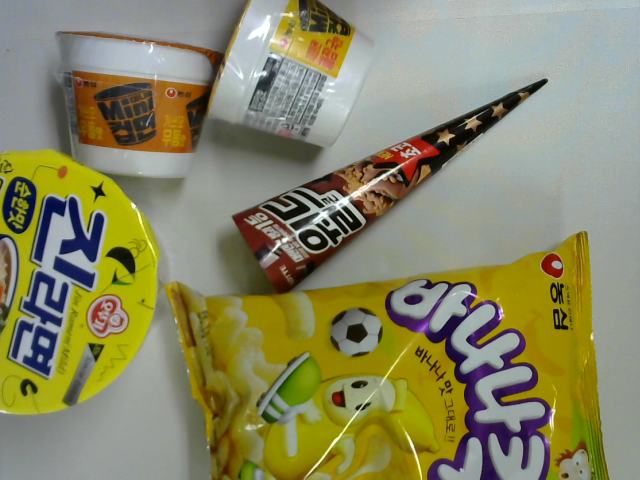Banana_Kick: (161, 231, 615, 480)
Hejangmini: (201, 1, 380, 161)
Jinlamyeon_Mild_Taste_Large_Cup: (1, 145, 171, 413)
Udongmini: (44, 26, 226, 187)
World_Cone_Choco: (228, 67, 565, 301)
